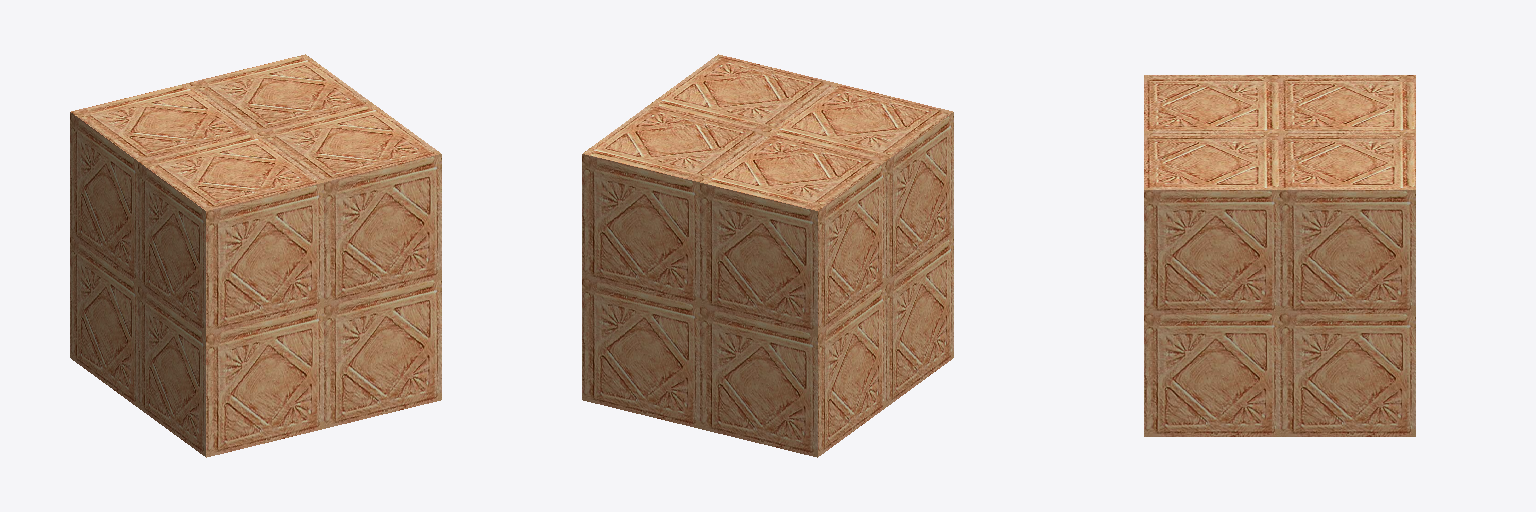
3 views of the same model, side by side, from view 1: azimuth 30°, elevation 25°; view 2: azimuth 150°, elevation 25°; view 3: azimuth 270°, elevation 25° (orthographic).
Parts seen in each view (by area): view 1: cube4_Main-Metal_Brass_Ceiling; view 2: cube4_Main-Metal_Brass_Ceiling; view 3: cube4_Main-Metal_Brass_Ceiling.
Part boxes in pixels (bbox=[...]): cube4_Main-Metal_Brass_Ceiling: bbox=[70, 54, 441, 457]; cube4_Main-Metal_Brass_Ceiling: bbox=[582, 54, 953, 457]; cube4_Main-Metal_Brass_Ceiling: bbox=[1144, 75, 1415, 436].
Bounding box in the file's own units: 30 × 30 × 30.
1 materials, 1 textured.